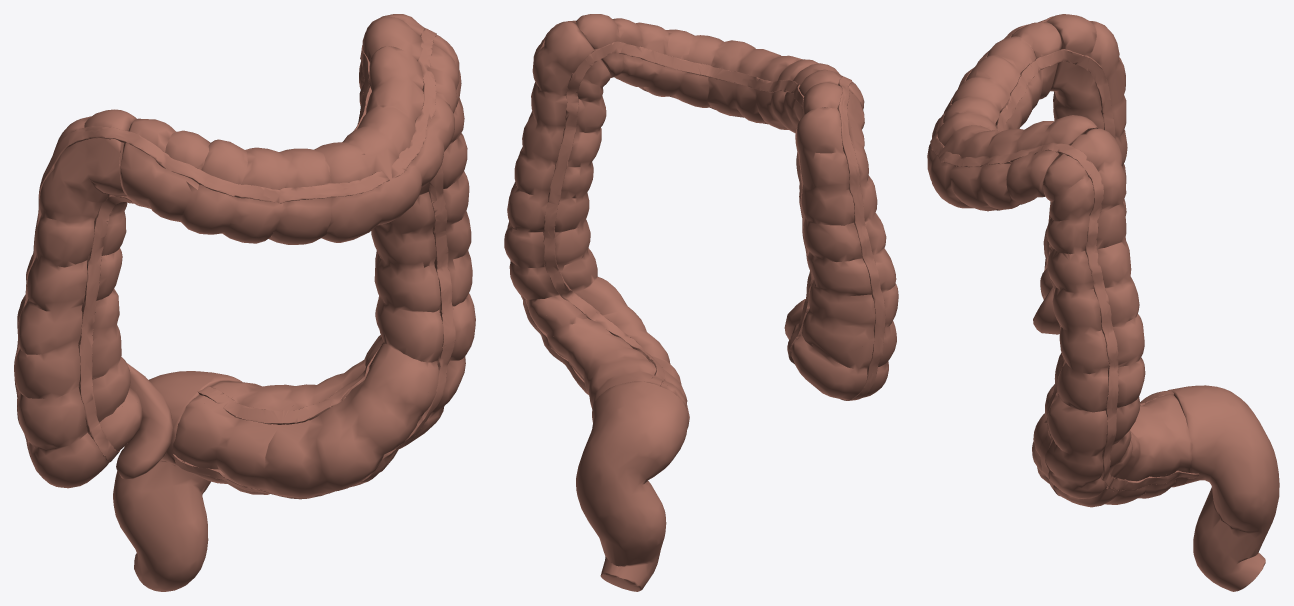
File: explorar-large_intestine.glb
The picture shows the model from 3 angles, left to right: view 1: azimuth 30°, elevation 25°; view 2: azimuth 150°, elevation 25°; view 3: azimuth 270°, elevation 25°; orthographic projection. The views are drawn at different scales.
Visible parts, largest first — view 1: large_intestine__transverso, large_intestine__ascendente, large_intestine__sigmoide, large_intestine__base, large_intestine__descendente, large_intestine__recto, large_intestine__ciego; view 2: large_intestine__descendente, large_intestine__ascendente, large_intestine__recto, large_intestine__transverso, large_intestine__base, large_intestine__sigmoide, large_intestine__ciego; view 3: large_intestine__descendente, large_intestine__transverso, large_intestine__recto, large_intestine__base, large_intestine__sigmoide, large_intestine__ascendente, large_intestine__ciego.
Part boxes in pixels (left/top/right/bottom): large_intestine__transverso: left=119, top=16, right=459, bottom=244; large_intestine__ascendente: left=14, top=109, right=149, bottom=435; large_intestine__sigmoide: left=172, top=336, right=435, bottom=497; large_intestine__base: left=14, top=24, right=461, bottom=499; large_intestine__descendente: left=359, top=14, right=475, bottom=439; large_intestine__recto: left=113, top=371, right=241, bottom=591; large_intestine__ciego: left=18, top=363, right=172, bottom=488; large_intestine__descendente: left=504, top=21, right=617, bottom=359; large_intestine__ascendente: left=793, top=83, right=898, bottom=353; large_intestine__recto: left=576, top=381, right=688, bottom=591; large_intestine__transverso: left=576, top=14, right=864, bottom=133; large_intestine__base: left=507, top=20, right=887, bottom=400; large_intestine__sigmoide: left=544, top=282, right=689, bottom=428; large_intestine__ciego: left=784, top=299, right=896, bottom=400; large_intestine__descendente: left=1035, top=128, right=1145, bottom=498; large_intestine__transverso: left=927, top=22, right=1098, bottom=211; large_intestine__recto: left=1167, top=385, right=1279, bottom=591; large_intestine__base: left=930, top=16, right=1199, bottom=495; large_intestine__sigmoide: left=1032, top=391, right=1192, bottom=507; large_intestine__ascendente: left=1043, top=14, right=1127, bottom=272; large_intestine__ciego: left=1033, top=251, right=1060, bottom=334.
Size of the model in its own units: 0.2443 by 0.3074 by 0.1856.
